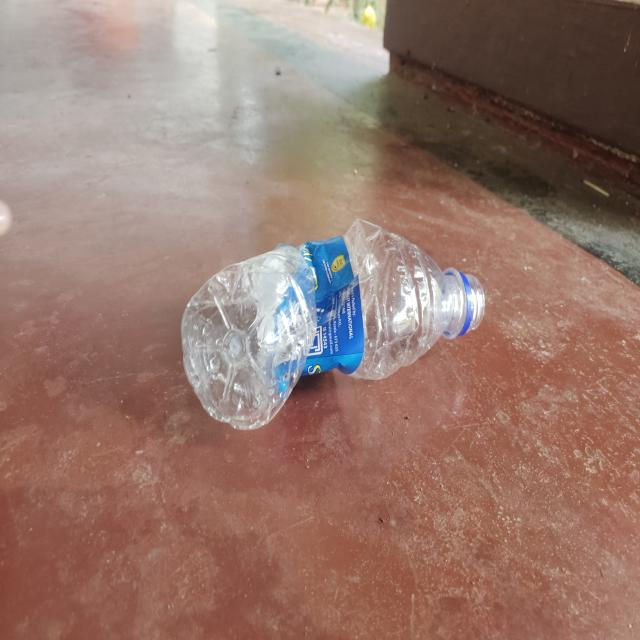plastic: (179, 218, 488, 436)
